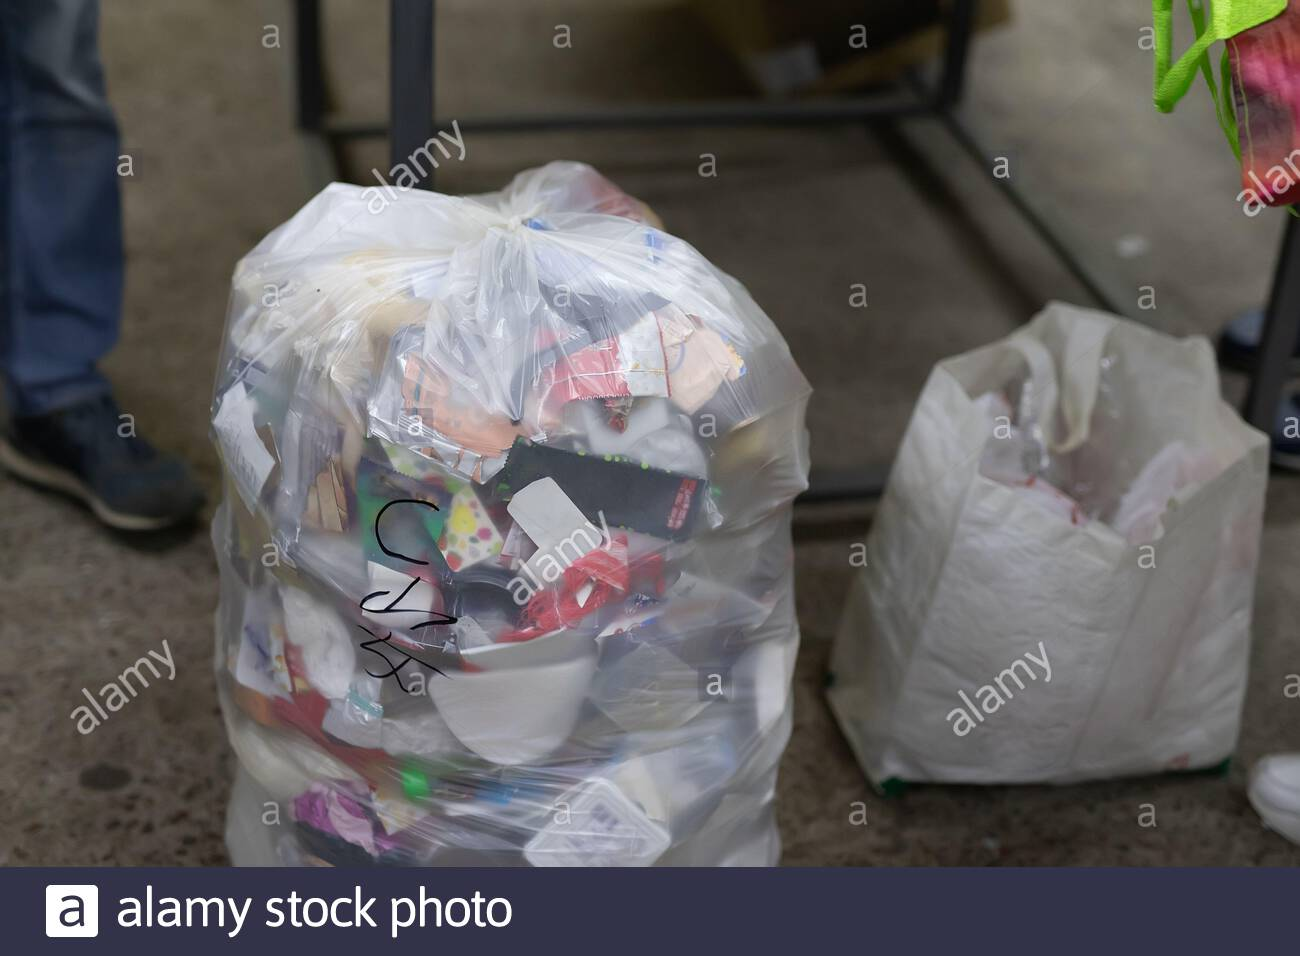plastic_bag: (197, 154, 820, 875)
